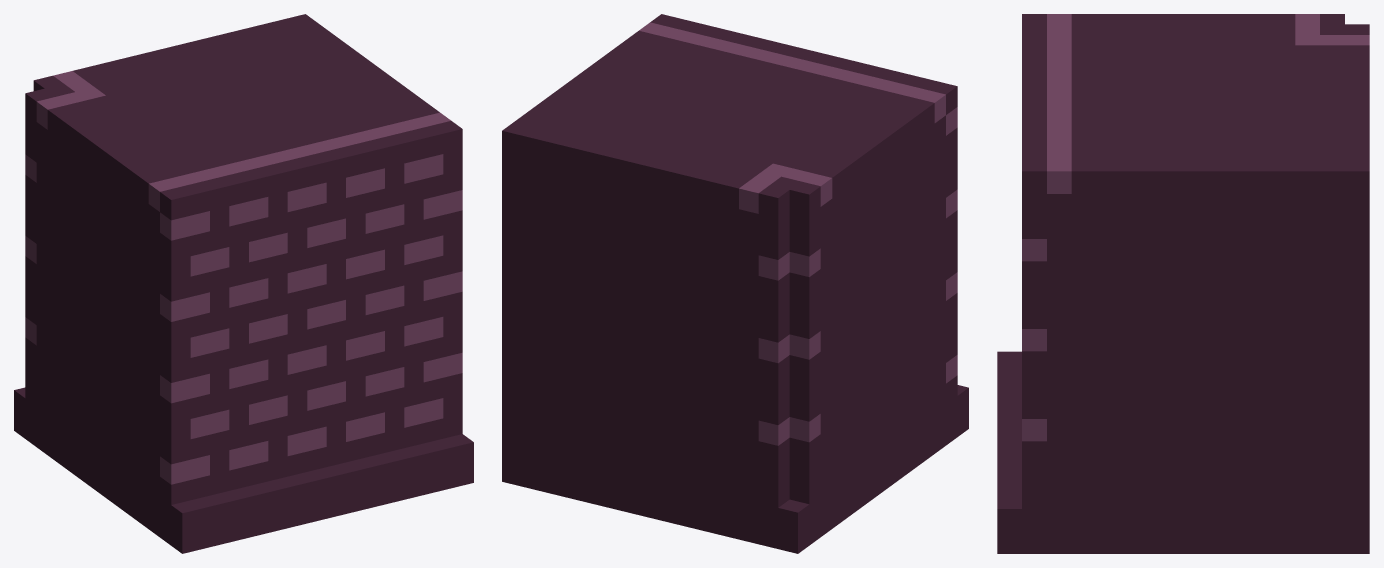
File: dungeon_c_a_outer_wall_segment_d.obj
The picture shows the model from 3 angles, left to right: view 1: azimuth 30°, elevation 25°; view 2: azimuth 150°, elevation 25°; view 3: azimuth 270°, elevation 25°; orthographic projection. The views are drawn at different scales.
Bounding box in the file's own units: 1.5 × 1.7 × 1.5.
1 material, 1 textured.
